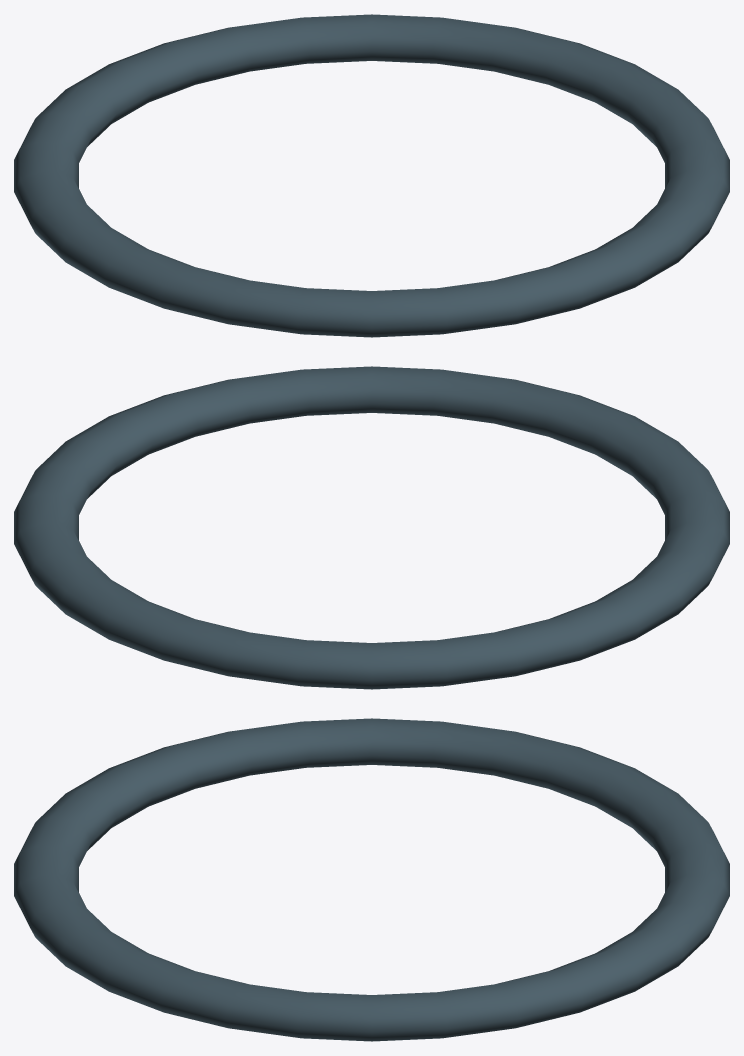
The model's file is InputIdentifier_Pad_Glass.fbx.
The picture shows the model from 3 angles, top to bottom: view 1: azimuth 30°, elevation 25°; view 2: azimuth 150°, elevation 25°; view 3: azimuth 270°, elevation 25°; orthographic projection.
Visible parts, largest first — view 1: InputIdentifier_InnerGlass; view 2: InputIdentifier_InnerGlass; view 3: InputIdentifier_InnerGlass.
Part boxes in pixels (x1,y1,x2,y2): InputIdentifier_InnerGlass: [14, 14, 729, 337]; InputIdentifier_InnerGlass: [14, 366, 729, 689]; InputIdentifier_InnerGlass: [14, 718, 729, 1041].
Bounding box in the file's own units: 4.28 × 0.2487 × 4.26.
